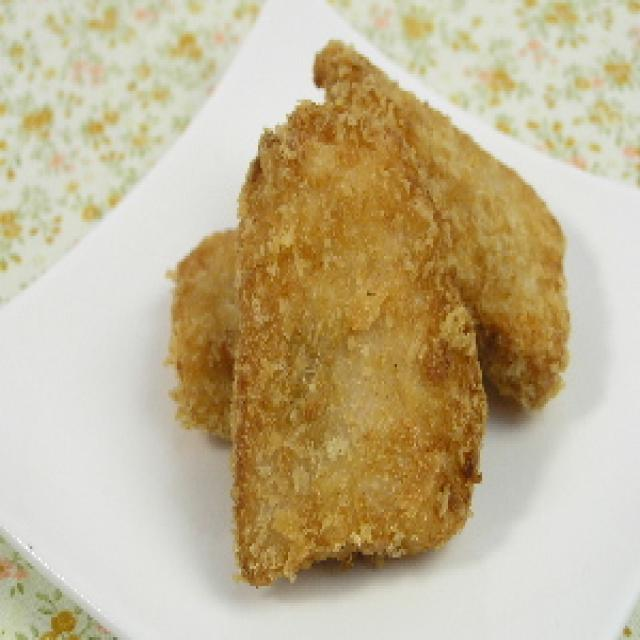炸货点心: (147, 17, 557, 589)
熟制海鲜: (147, 17, 557, 589)
